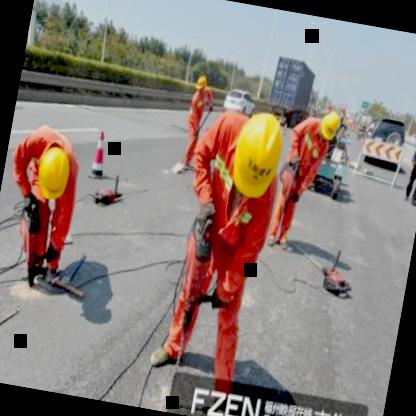helmet: (222, 105, 292, 209), (28, 138, 78, 209), (316, 107, 344, 146), (193, 70, 212, 94)
